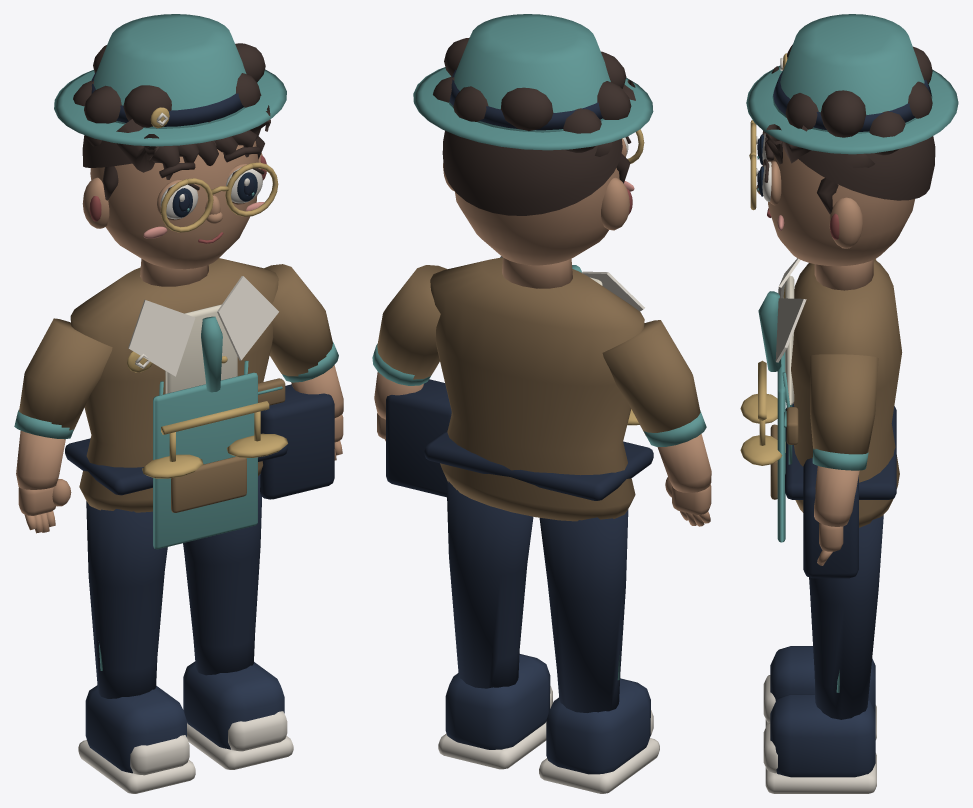
File: npc_npc_hex_relic_buyer.glb
3 views of the same model, side by side, from view 1: azimuth 30°, elevation 25°; view 2: azimuth 150°, elevation 25°; view 3: azimuth 270°, elevation 25° (orthographic). The views are drawn at different scales.
Visible parts, largest first — view 1: figure.058; view 2: figure.058; view 3: figure.058.
Part boxes in pixels (left/top/right/bottom): figure.058: left=14, top=14, right=343, bottom=793; figure.058: left=372, top=14, right=711, bottom=793; figure.058: left=740, top=14, right=958, bottom=793.
Size of the model in its own units: 0.7495 by 1.58 by 0.4338.
